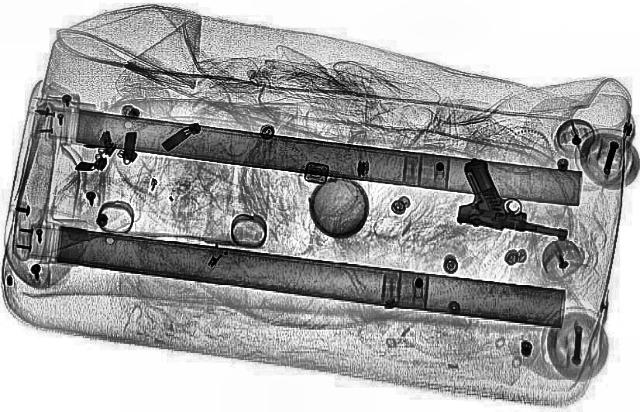Gun: (444, 158, 592, 240)
